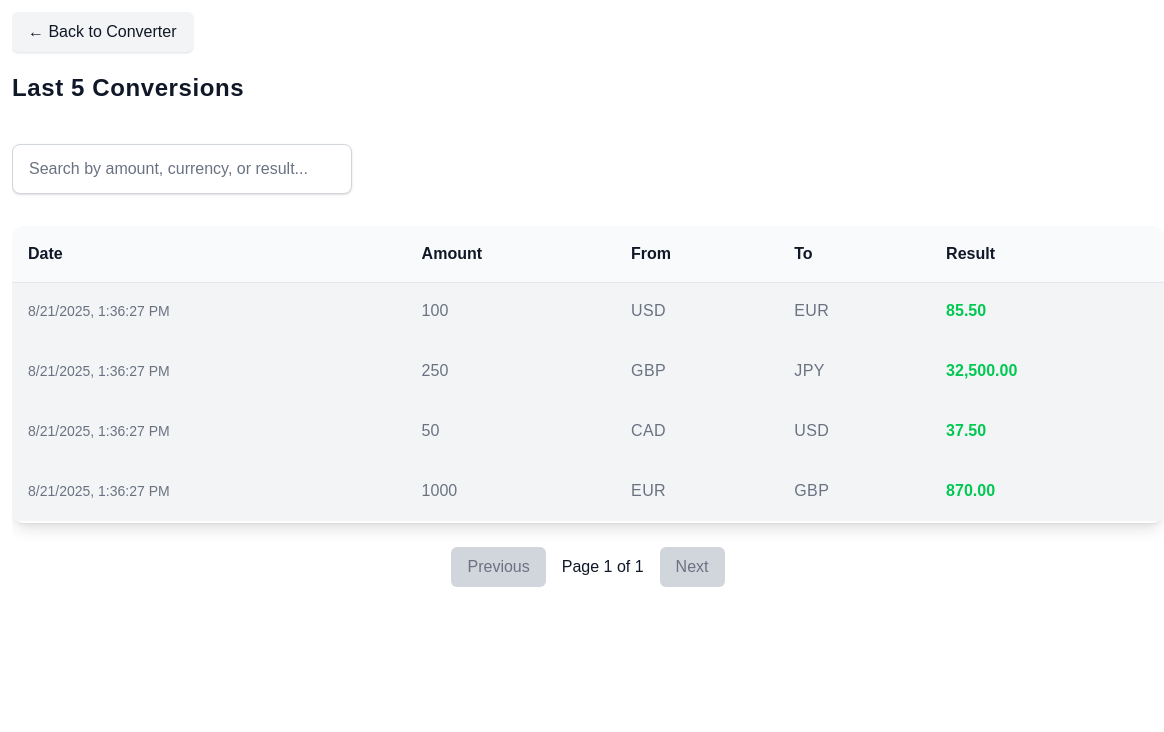
Scenario: TransactionHistory › filters transactions by amount
Type "100" into the field with placeholder "Search by amount, currency, or result..." at (182, 169), box [12,144,352,194]
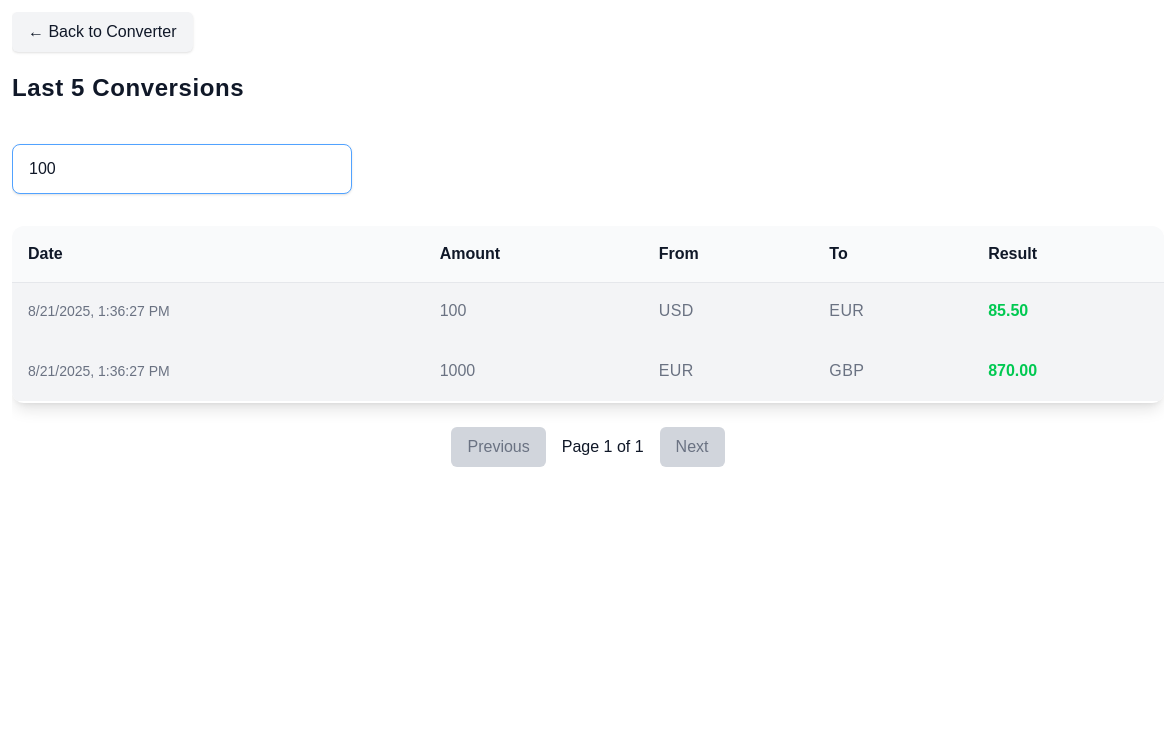
Check: the text "100" is shown, box [424,282,643,341]
Check: the text "1000" is shown, box [424,341,643,401]
Check: the text "250" is gone
